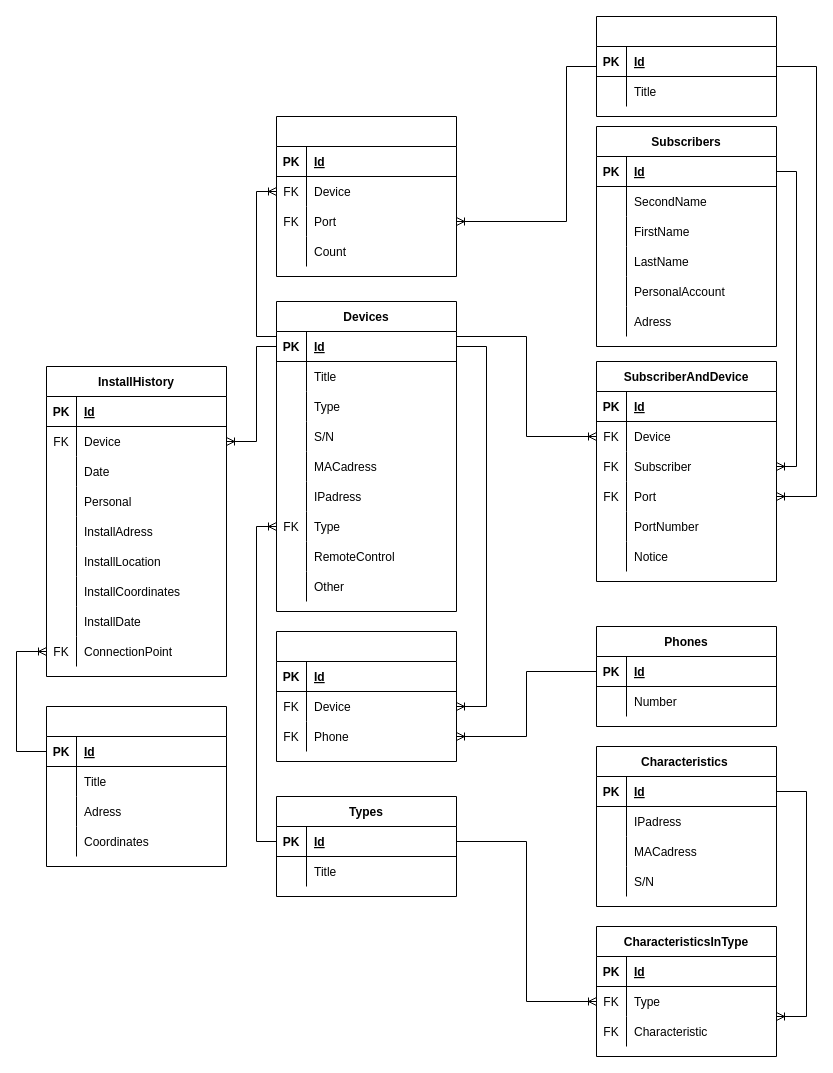
This 833x1073 diagram has some shape labels left out. Each missing label, with the box of its shape:
ConnectionPoints: (46, 706, 226, 866)
PhonesOnDevice: (276, 630, 456, 762)
Ports: (596, 16, 776, 116)
PortsInDevice: (276, 116, 456, 276)
